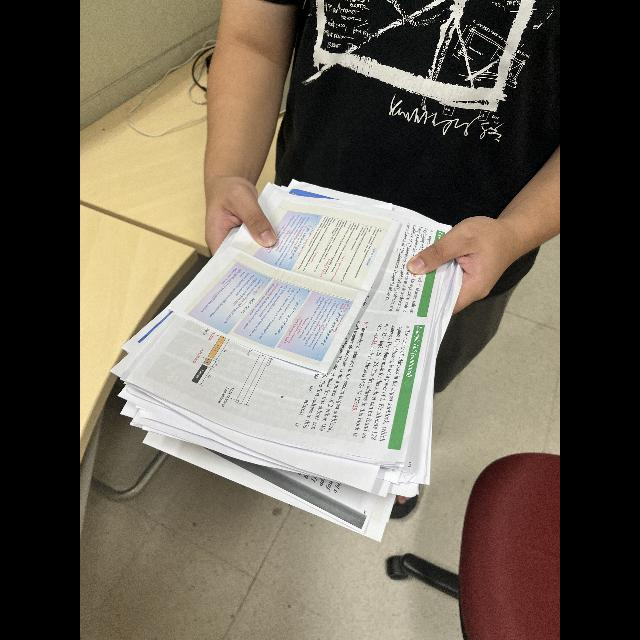reuseable_paper: (107, 168, 467, 540)
